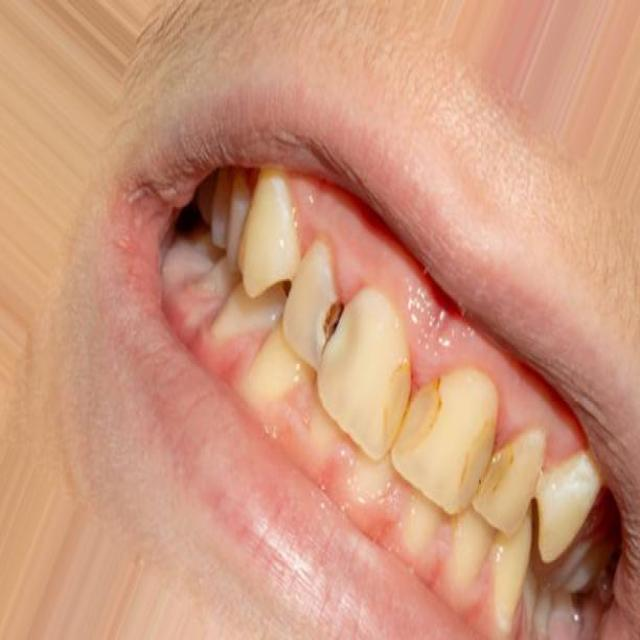caries: (376, 344, 450, 471), (457, 414, 521, 511), (307, 288, 357, 370)
